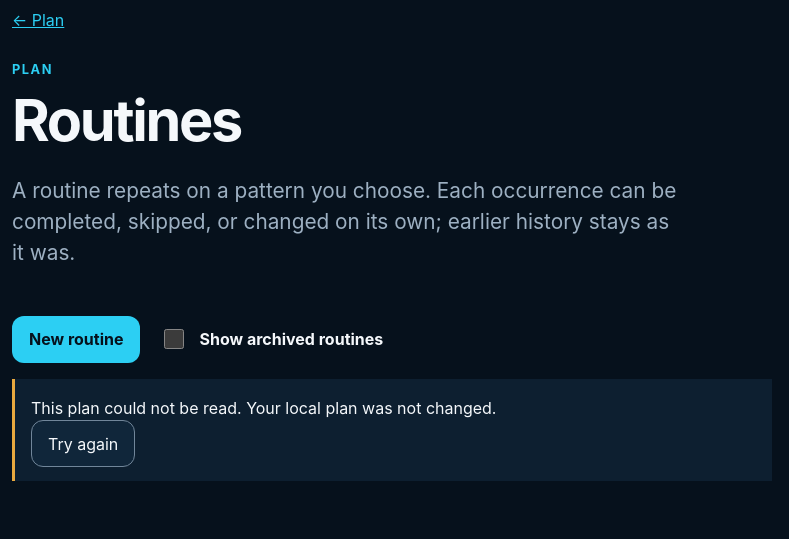
Routines page › shows a calm empty state and a recoverable error state
Expected: the message shows "could not be read", x1=31 y1=398 x2=496 y2=418
Click the button "Try again" at (83, 444), box x1=31 y1=420 x2=135 y2=467
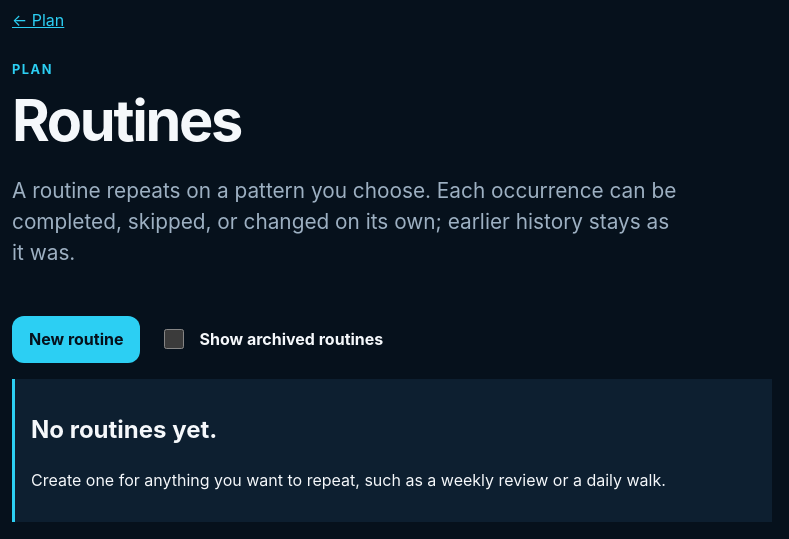
Now the heading "No routines yet." is shown, box x1=31 y1=415 x2=217 y2=444
